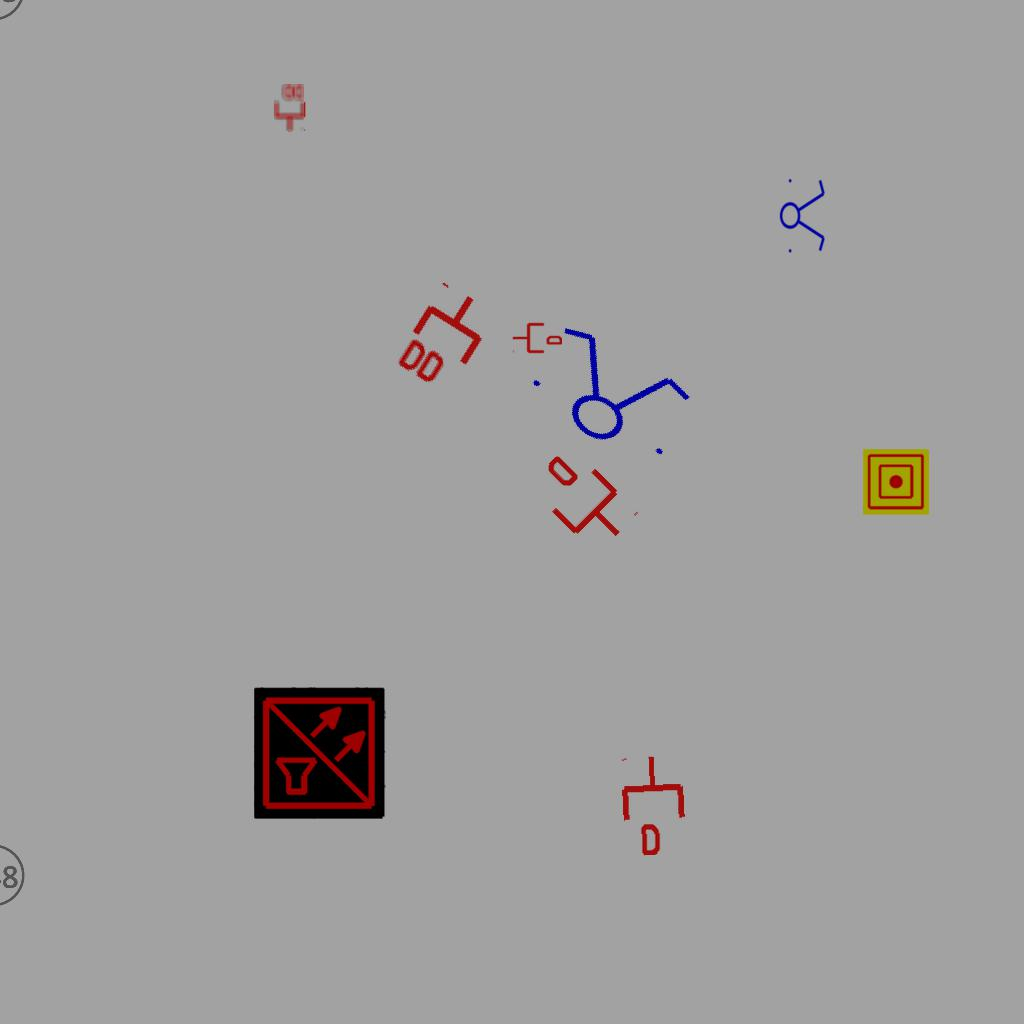Datenanschluss_einfach: (523, 440, 644, 560), (616, 753, 691, 857), (512, 321, 562, 355)
Datenanschluss_zweifach: (389, 277, 504, 402), (272, 82, 306, 133)
NAM-Nichtautomatischer_Melder: (863, 449, 929, 515)
OKW_Multisensormelder_(Kombination_optischer_Rauch-Kahlenmonoxid_Waerme-Melder): (254, 687, 386, 819)
Serienschalter: (512, 311, 706, 477), (779, 173, 827, 257)
